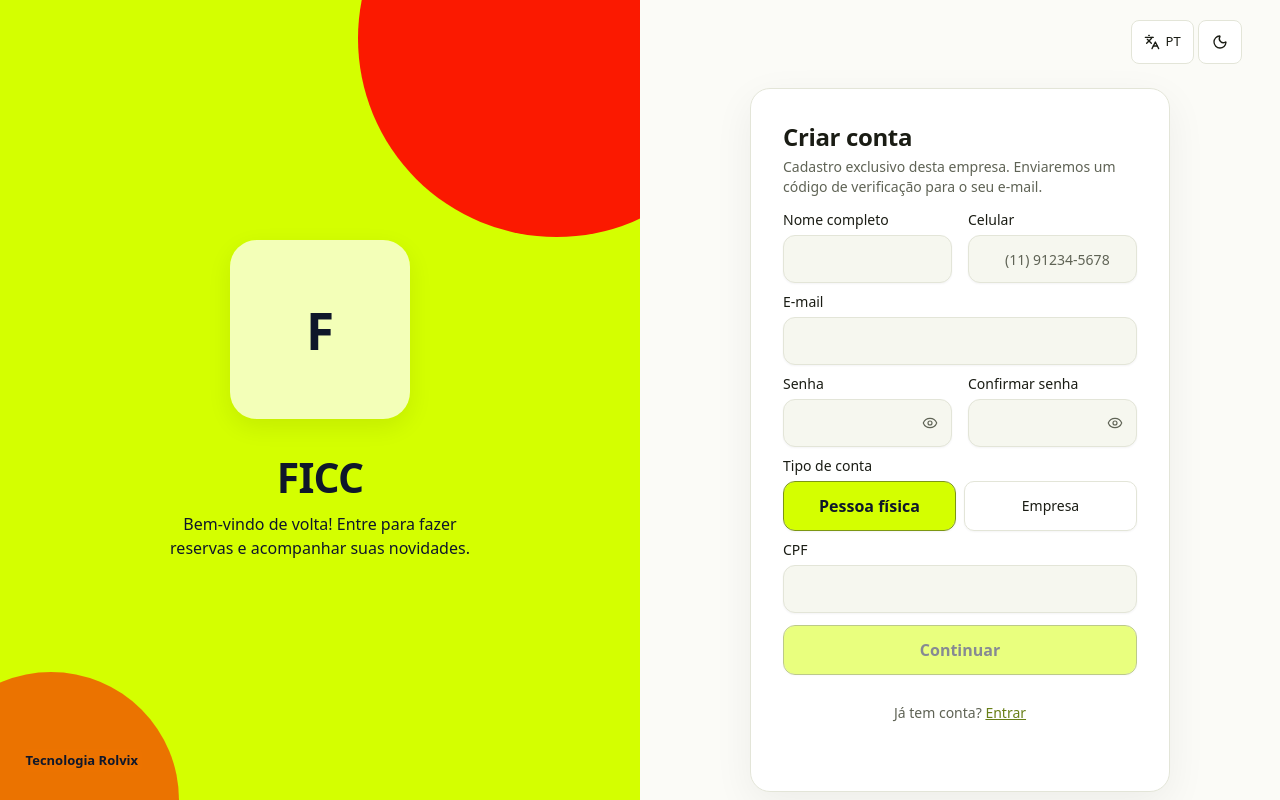
it: logged-out portal language switch › switches signup copy and shows each language in its own name
expect the heading "Criar conta" is shown: met, box x1=783 y1=120 x2=912 y2=153
Step 1. Click the button with aria-label "Idioma" → (1162, 42), box x1=1130 y1=20 x2=1194 y2=64
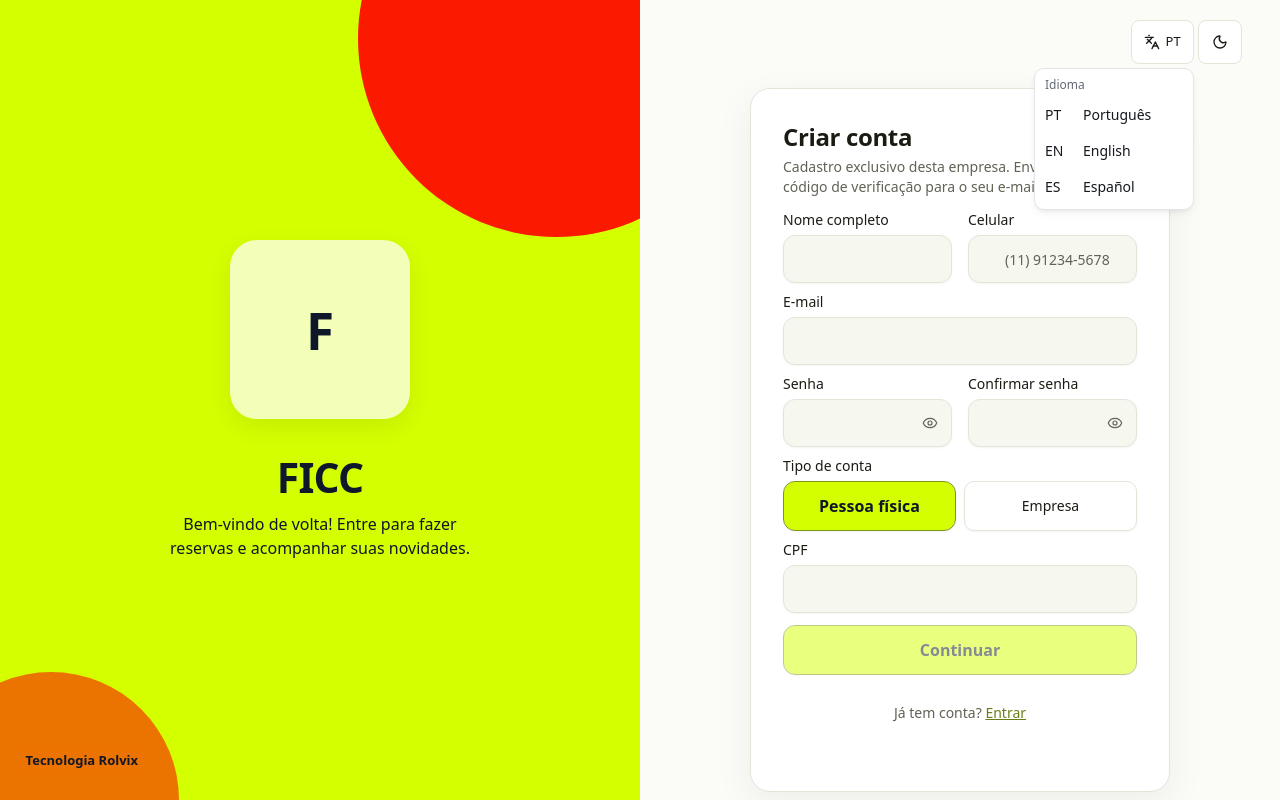
Step 2. Click the menu item "EN English" → (1088, 150), box x1=1045 y1=141 x2=1131 y2=160
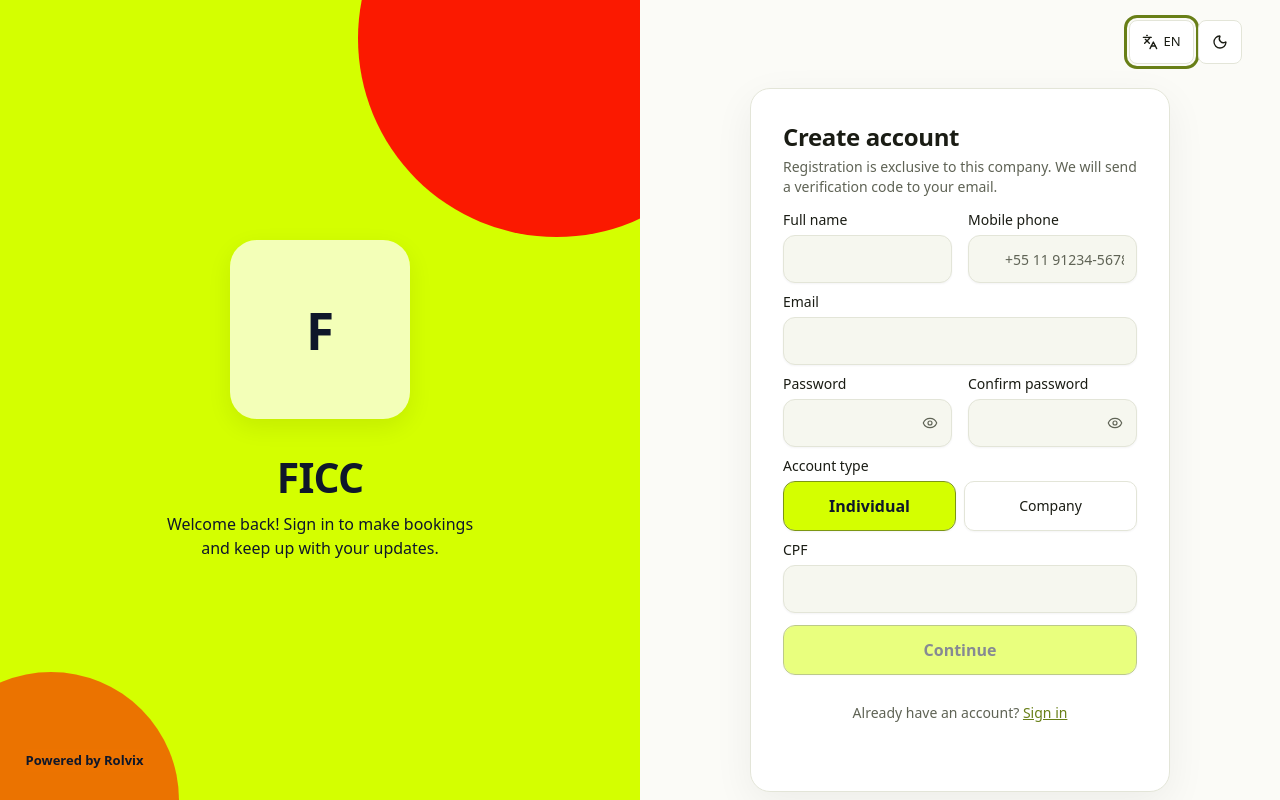
expect the heading "Create account" is shown: met, box x1=783 y1=120 x2=959 y2=153
Step 3. Click the button with aria-label "Language" → (1161, 42), box x1=1128 y1=20 x2=1194 y2=64
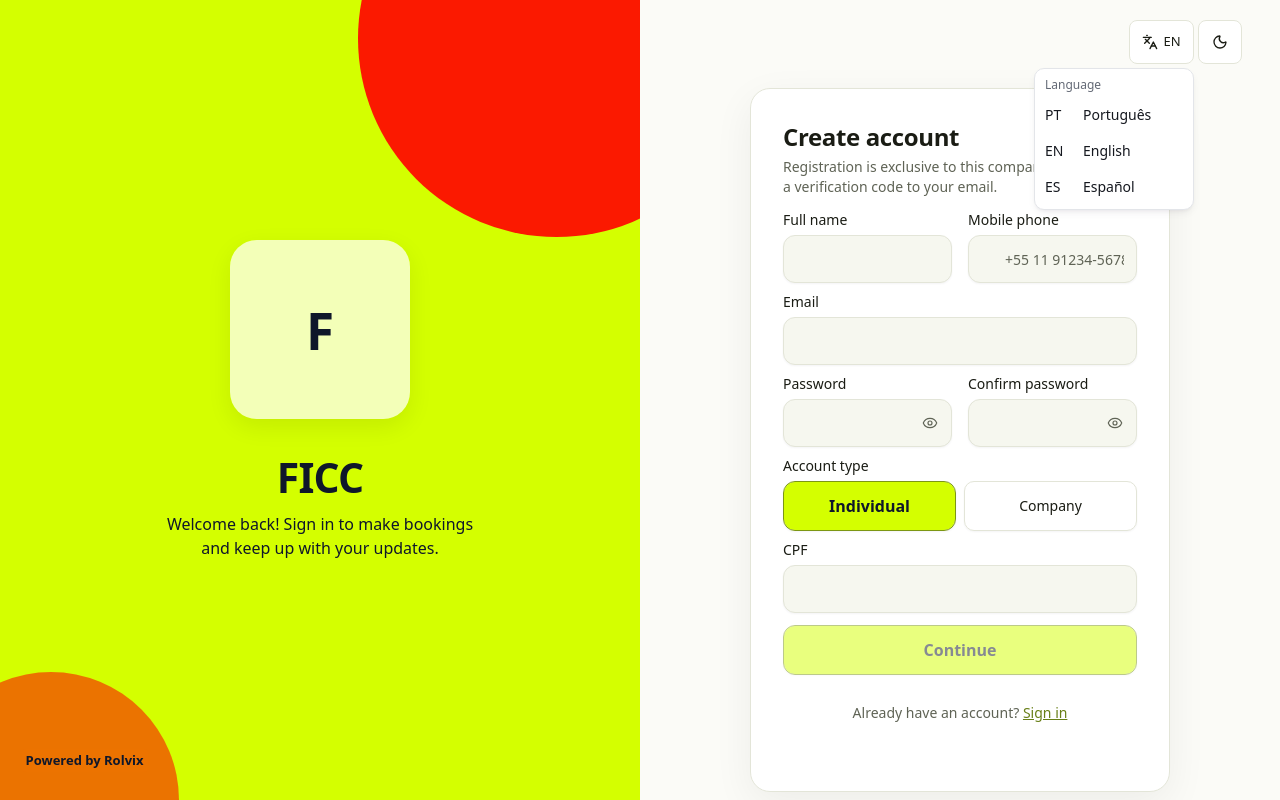
expect the menu item "PT Português" is shown: met, box x1=1045 y1=105 x2=1151 y2=124
expect the menu item "EN English" is shown: met, box x1=1045 y1=141 x2=1131 y2=160
expect the menu item "ES Español" is shown: met, box x1=1045 y1=177 x2=1135 y2=196
